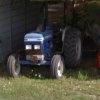Tractor: (7, 24, 88, 78)
